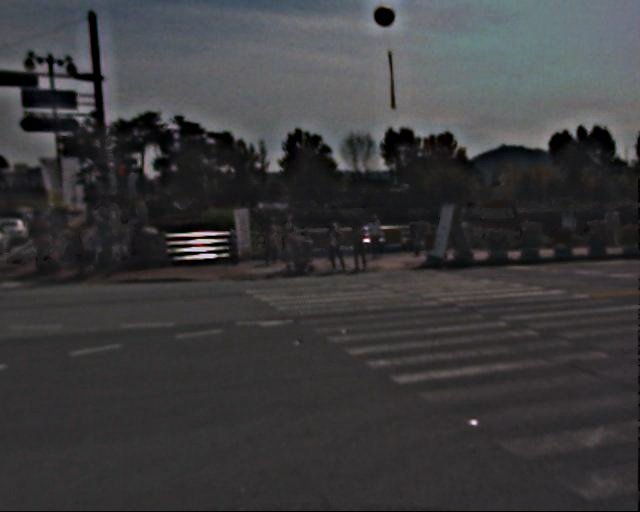person: (29, 206, 68, 267), (76, 215, 115, 271), (279, 210, 304, 272), (97, 211, 124, 268), (351, 216, 372, 268), (326, 219, 347, 270), (265, 215, 285, 263), (369, 210, 388, 257)
